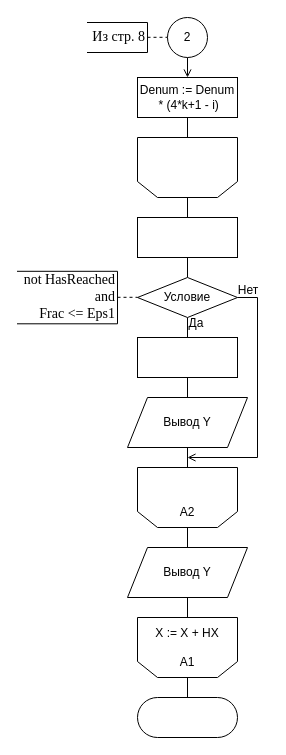
The diagram is 286 pixels wide and 755 high, and some of its shapes have lost their labels. Each missing label, with the centre of its shape:
"Frac := Num / Denum" goes at (187,237).
"HasReached := true" goes at (187,357).
"i := i + 1 A3" goes at (187,167).
"Выход" goes at (187,717).
